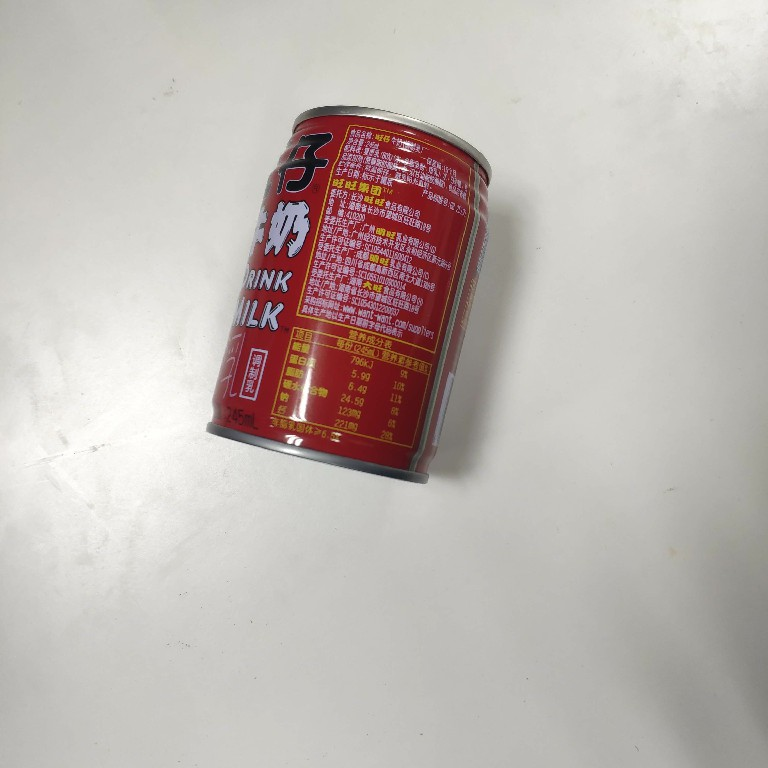can: (205, 100, 496, 488)
